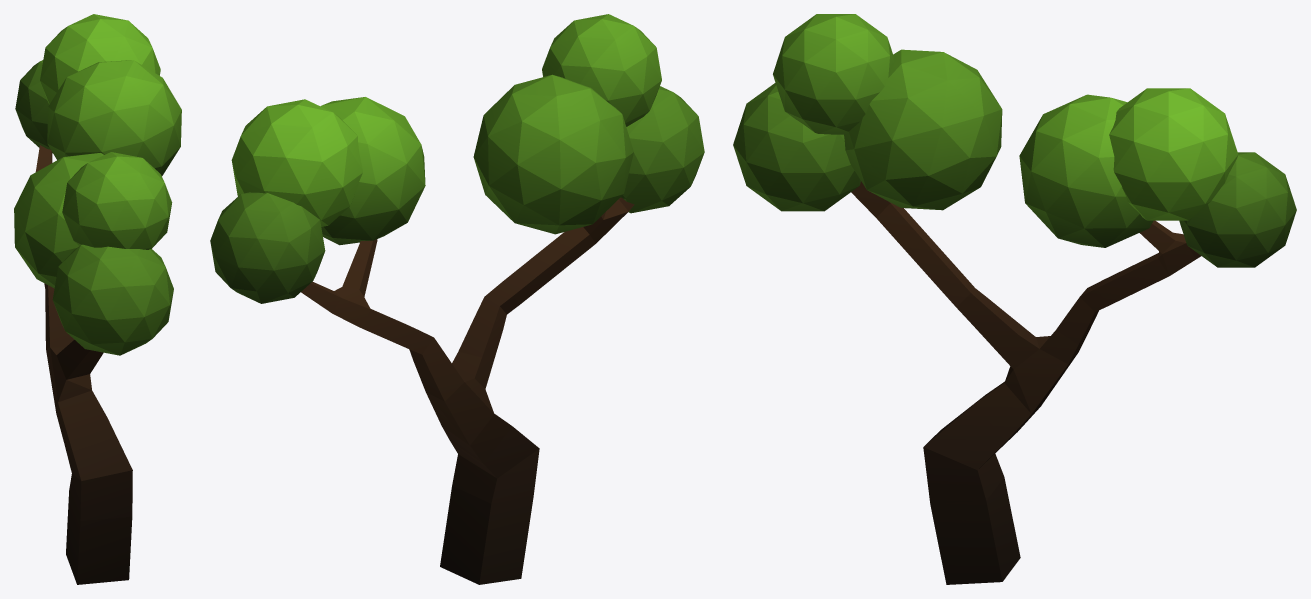
File: Arvore5.fbx
3 renders of one model, left to right at view 1: azimuth 30°, elevation 25°; view 2: azimuth 150°, elevation 25°; view 3: azimuth 270°, elevation 25°, orthographic. The views are drawn at different scales.
Parts seen in each view (by area): view 1: Cube; view 2: Cube; view 3: Cube.
Part boxes in pixels (bbox=[...]): Cube: bbox=[14, 14, 181, 584]; Cube: bbox=[210, 14, 704, 584]; Cube: bbox=[733, 14, 1296, 584].
Bounding box in the file's own units: 817 × 474 × 855.
2 materials, 2 textured.
